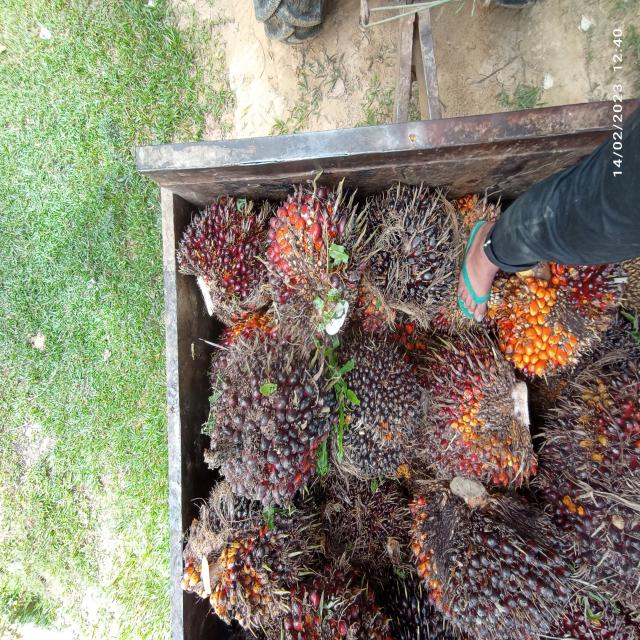fraksi 00: (194, 326, 333, 507), (172, 472, 318, 625), (362, 167, 461, 340), (333, 328, 424, 485)
fraksi 1: (409, 500, 573, 640), (254, 185, 364, 336), (178, 196, 280, 322)
fraksi 3: (406, 343, 543, 484)
fraksi 4: (474, 246, 604, 406)
